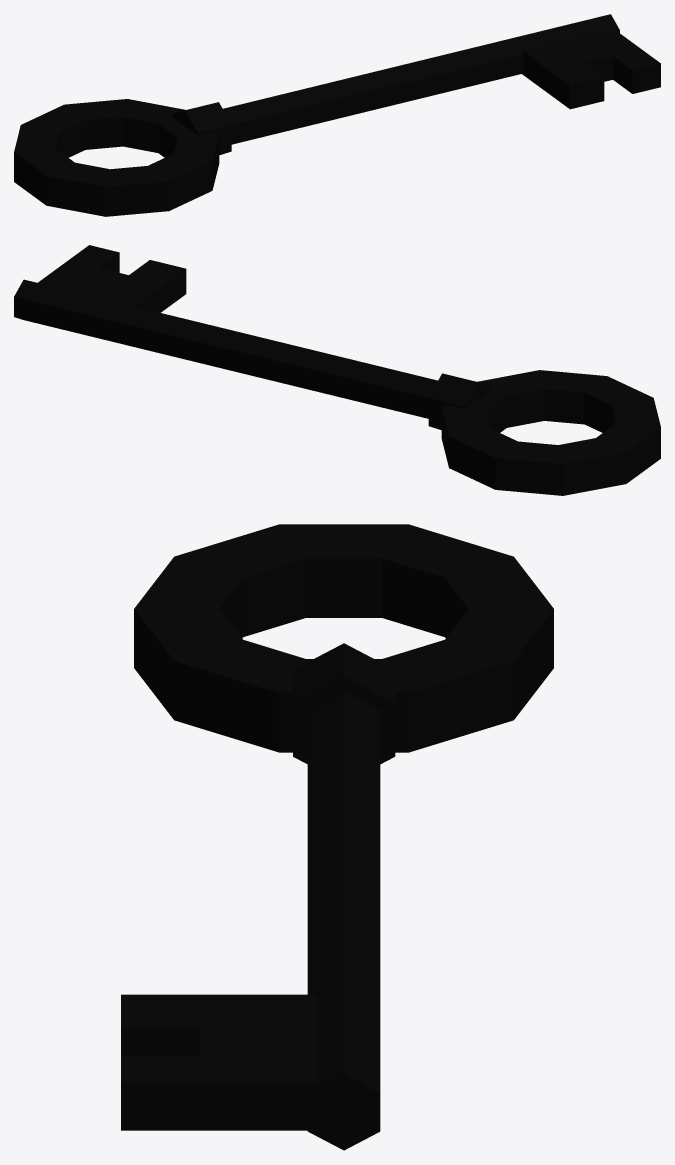
Rendered from key_skeleton.fbx.
3 views of the same model, one above another, from view 1: azimuth 30°, elevation 25°; view 2: azimuth 150°, elevation 25°; view 3: azimuth 270°, elevation 25° (orthographic). The views are drawn at different scales.
Visible parts, largest first — view 1: key_skeleton; view 2: key_skeleton; view 3: key_skeleton.
Part boxes in pixels (left/top/right/bottom): key_skeleton: left=14, top=14, right=660, bottom=216; key_skeleton: left=14, top=245, right=660, bottom=495; key_skeleton: left=121, top=524, right=553, bottom=1150.
Bounding box in the file's own units: 0.1022 × 0.009 × 0.033.
